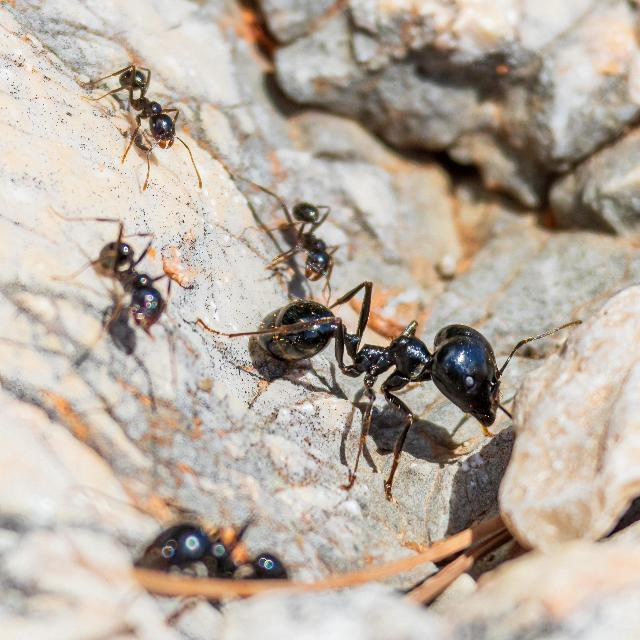Messor: (236, 277, 534, 455), (136, 495, 290, 599), (98, 214, 212, 346), (106, 48, 190, 168), (264, 190, 346, 280)
